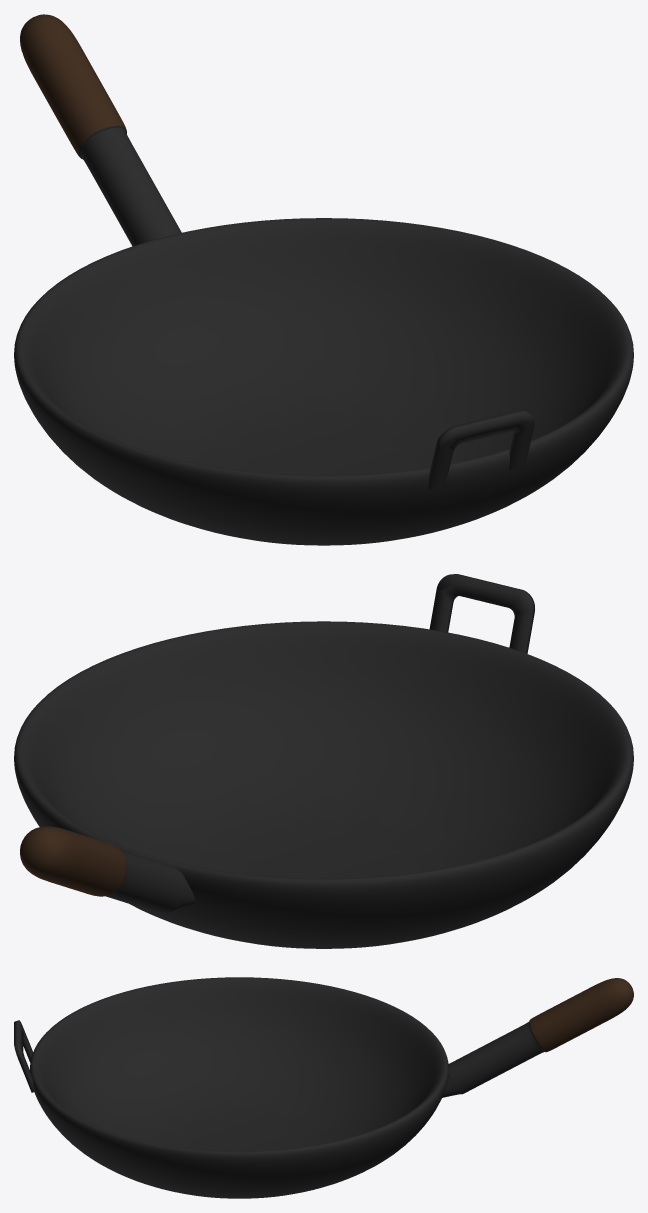
Rendered from wok_model.glb.
3 views of the same model, one above another, from view 1: azimuth 30°, elevation 25°; view 2: azimuth 150°, elevation 25°; view 3: azimuth 270°, elevation 25° (orthographic). The views are drawn at different scales.
Parts seen in each view (by area): view 1: Object_2, Object_3; view 2: Object_2, Object_3; view 3: Object_2, Object_3.
Boxes of the visible parts, x1,y1,x2,y2 form: Object_2: (14,125,633,545); Object_3: (20,14,125,155); Object_2: (14,574,633,948); Object_3: (20,826,126,896); Object_2: (14,977,545,1198); Object_3: (529,978,633,1052).
Bounding box in the file's own units: 2.89 × 1.38 × 4.28.
